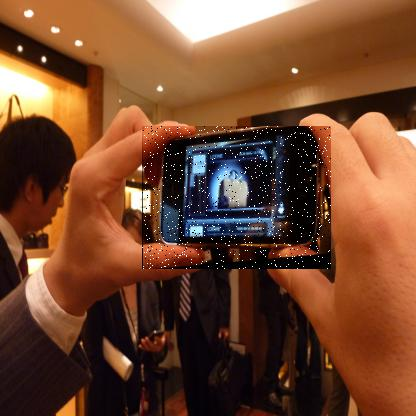Camera: (143, 127, 333, 271)
